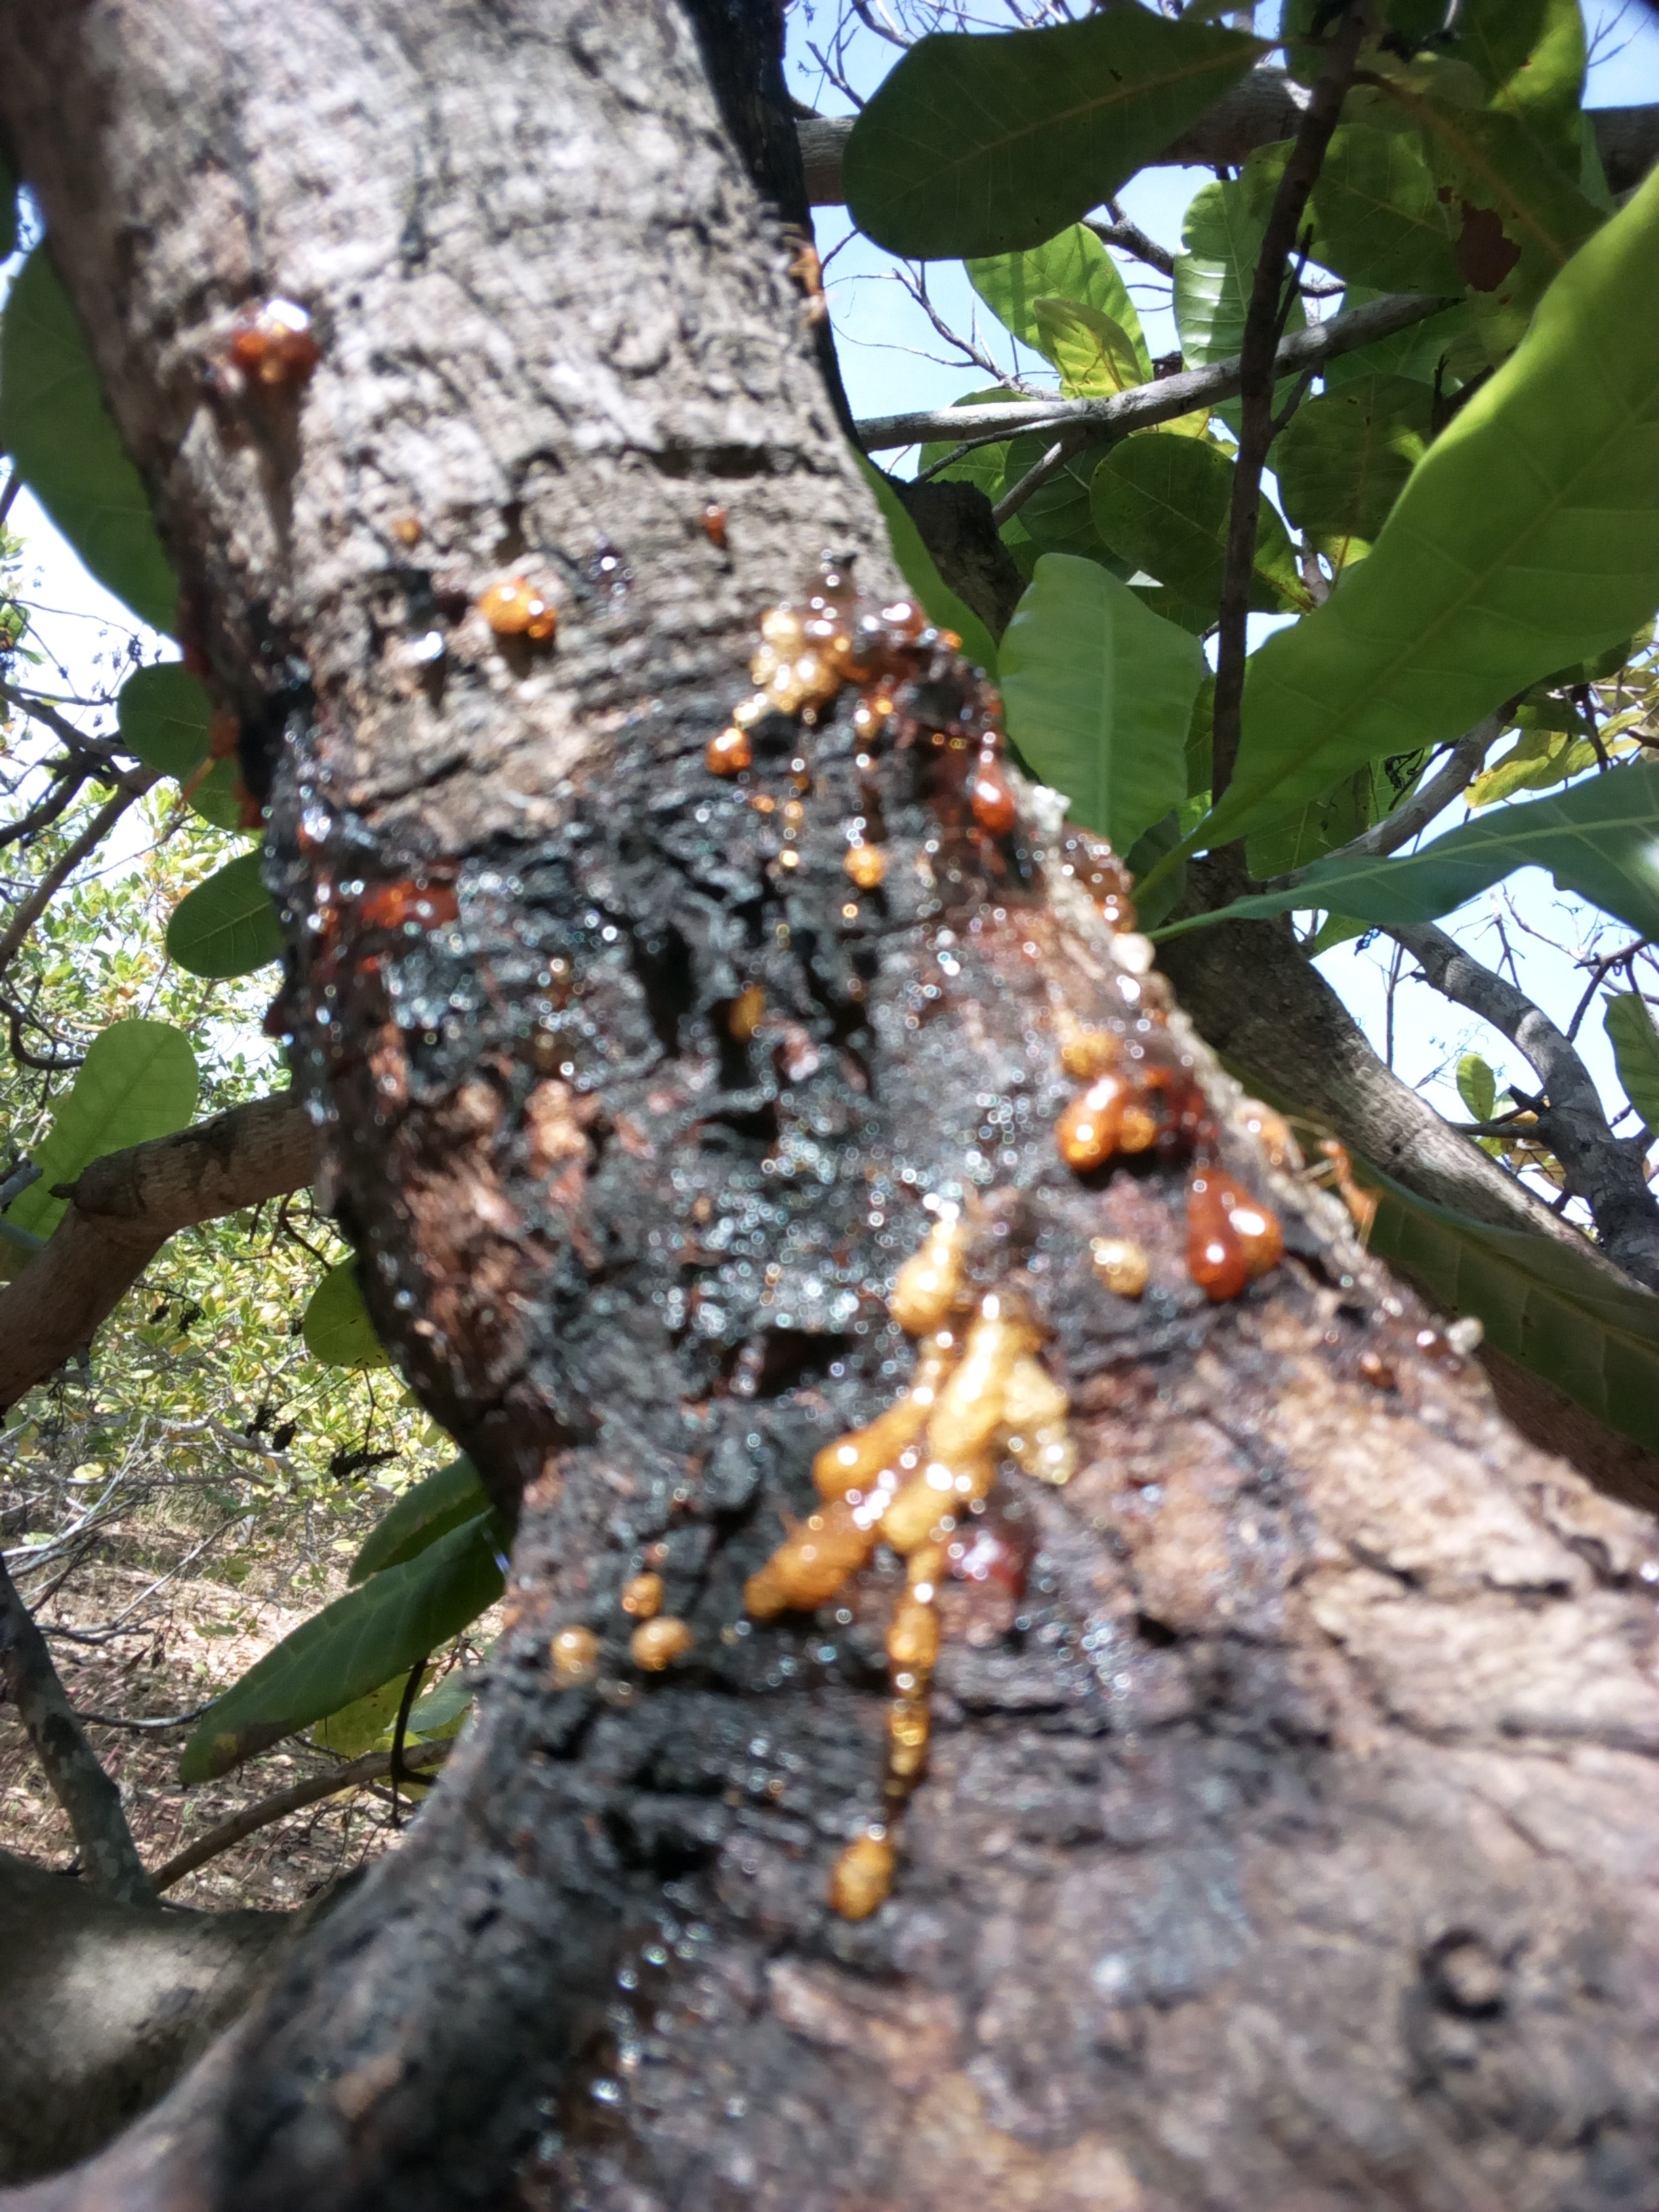Gommose: (267, 622, 1335, 1615), (362, 1648, 1040, 2212)
